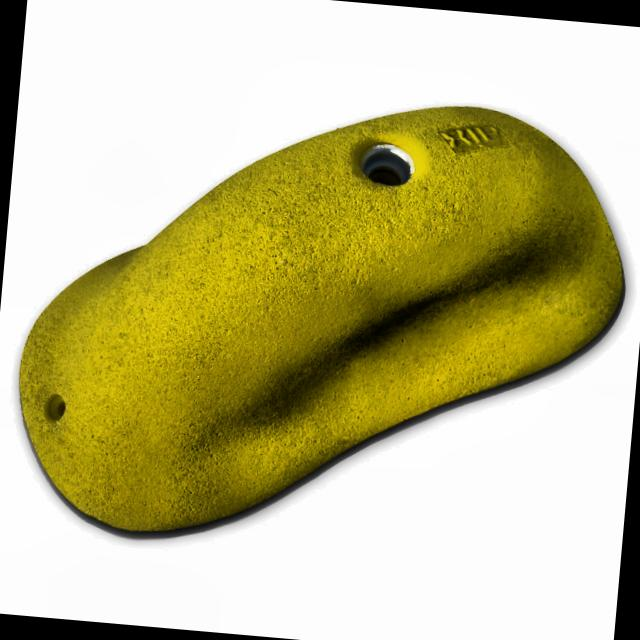Hold: (0, 84, 640, 552)
